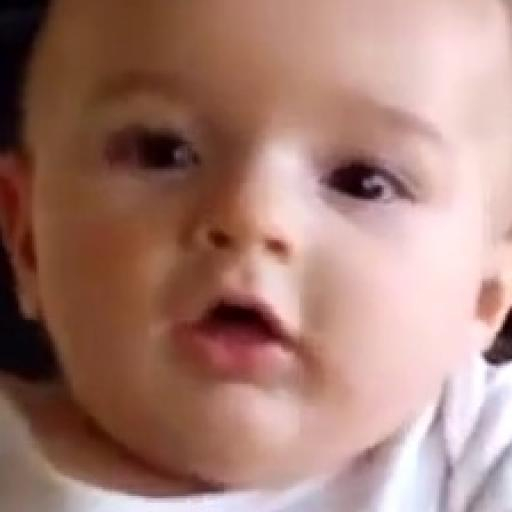Autism: (47, 7, 512, 502)
